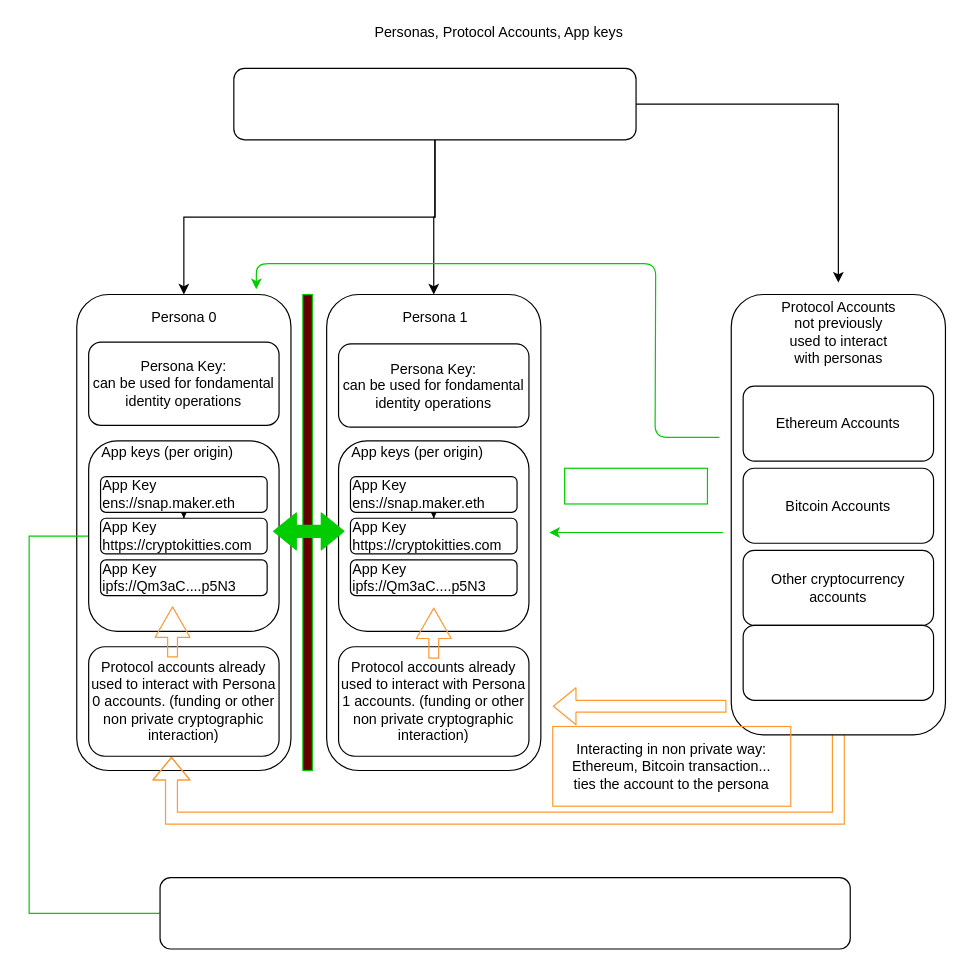
This 966x970 diagram has some shape labels left out. Here are the shapes that lost their labels. From the top down, the centre of each, then its label:
(x=434, y=103): User
(x=635, y=485): Private interactions: Mixers, Zk-snarks
(x=838, y=662): Non crypto accounts: -ssh / pgp -messaging -database...
(x=504, y=912): Application or Snap
